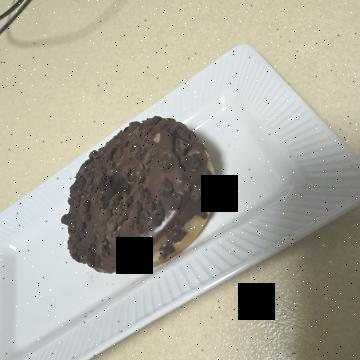doughnut: (106, 121, 284, 303)
